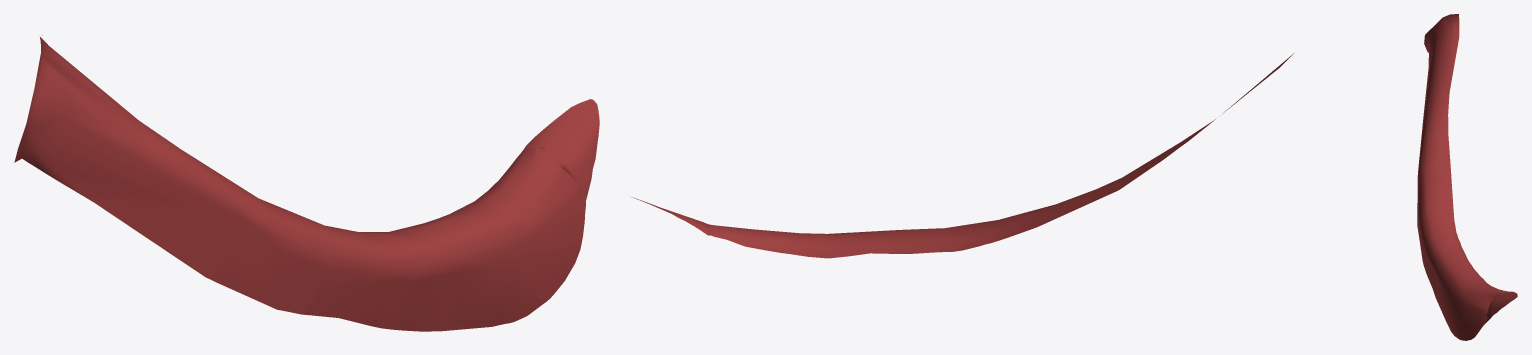
File: sternocostal-head-of-pectoralis-major-muscle-el.glb
The picture shows the model from 3 angles, left to right: view 1: azimuth 30°, elevation 25°; view 2: azimuth 150°, elevation 25°; view 3: azimuth 270°, elevation 25°; orthographic projection. The views are drawn at different scales.
Parts seen in each view (by area): view 1: Sternocostal head of pectoralis major muscle.el; view 2: Sternocostal head of pectoralis major muscle.el; view 3: Sternocostal head of pectoralis major muscle.el.
Part boxes in pixels (x1,y1,x2,y2): Sternocostal head of pectoralis major muscle.el: (14,35,599,331); Sternocostal head of pectoralis major muscle.el: (631,53,1293,258); Sternocostal head of pectoralis major muscle.el: (1417,14,1517,340).
Size of the model in its own units: 0.0809 by 0.0471 by 0.021.
